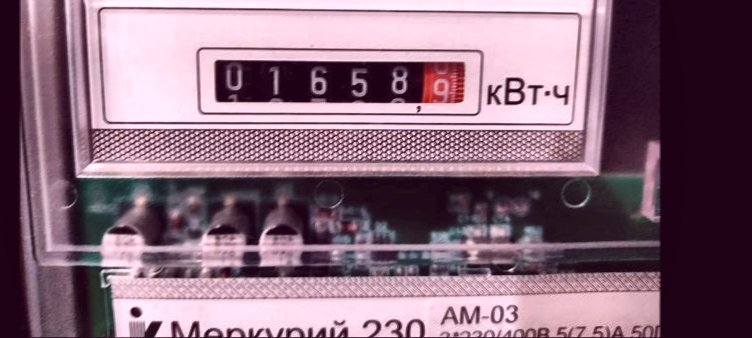0: (224, 60, 244, 90)
1: (267, 63, 284, 95)
5: (349, 65, 370, 96)
6: (309, 62, 329, 95)
8: (390, 62, 410, 94)
9: (430, 76, 451, 104)
screen: (188, 38, 488, 121)
